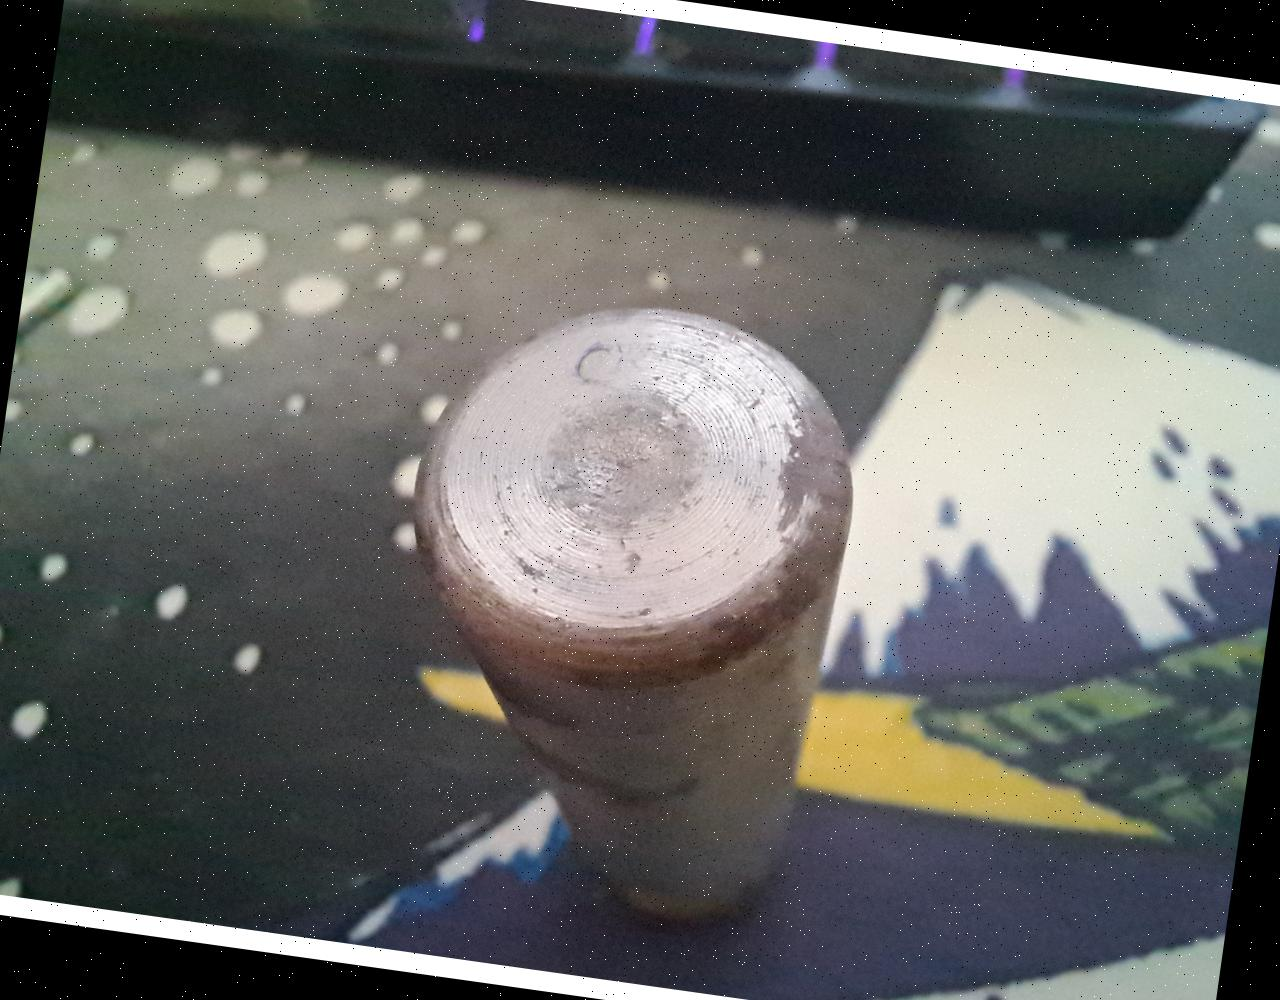defect: (571, 334, 632, 389)
planson: (414, 297, 853, 923)
